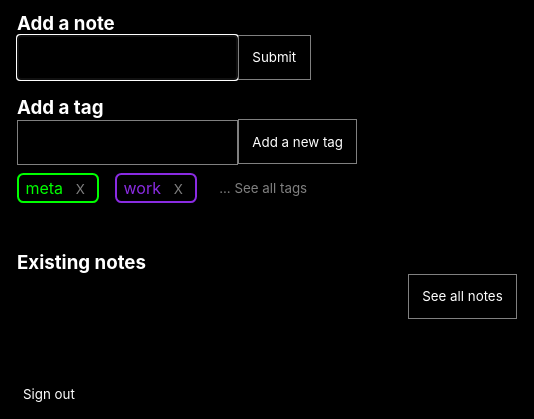
Test: App › happy tags › filters tags when typing
Expected: the text "work" is shown, left=124, top=178, right=161, bottom=198
Expected: the text "meta" is shown, left=25, top=178, right=63, bottom=198
Type "wor" into the field labelled "Add a tag". click: (128, 142)
box: left=17, top=120, right=238, bottom=165
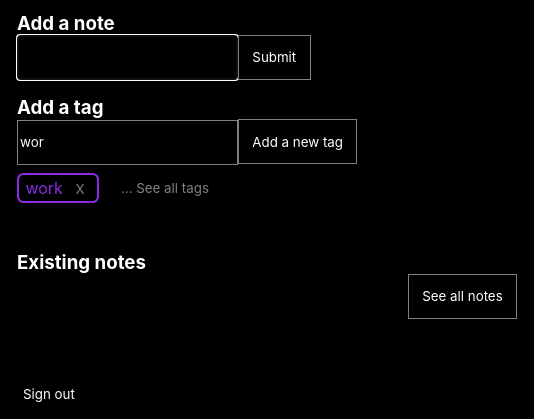
Expected: the text "work" is shown, left=25, top=178, right=63, bottom=198
Expected: the text "meta" is gone
